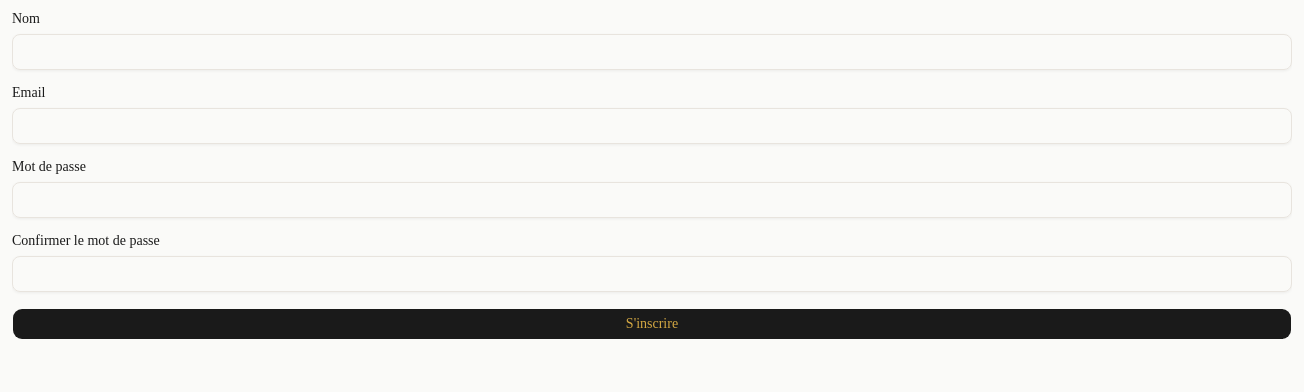
Test: <SignupForm> › displays the error message returned by the action
Type "Alice Martin" into the field labelled "Nom" at (652,52), box [12, 34, 1292, 70]
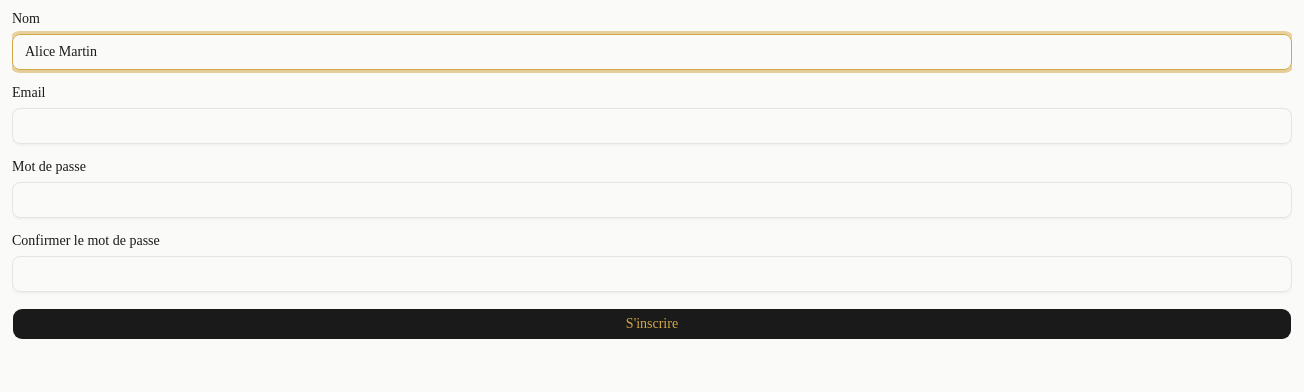
Type "taken@example.com" into the field labelled "Email" at (652,126), box [12, 108, 1292, 144]
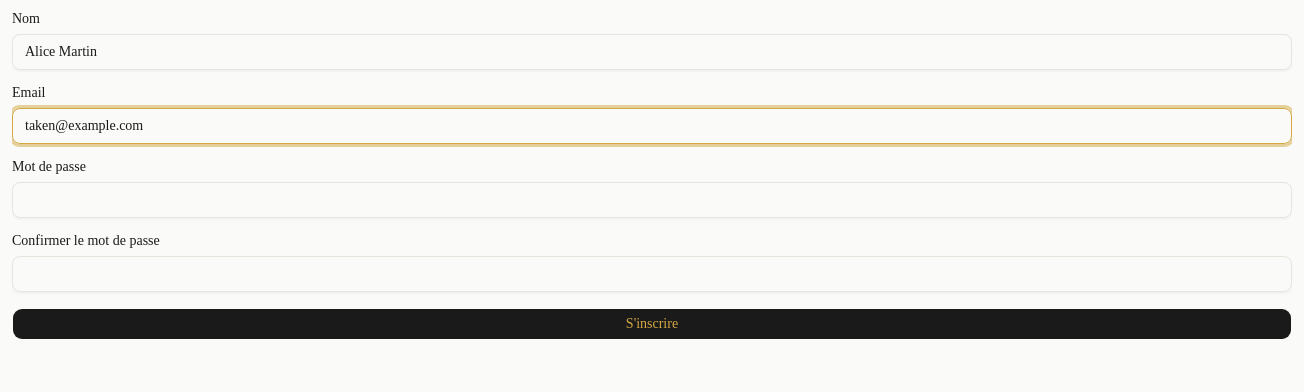
Type "secret12" into the password field labelled "Mot de passe" at (652,200), box [12, 182, 1292, 218]
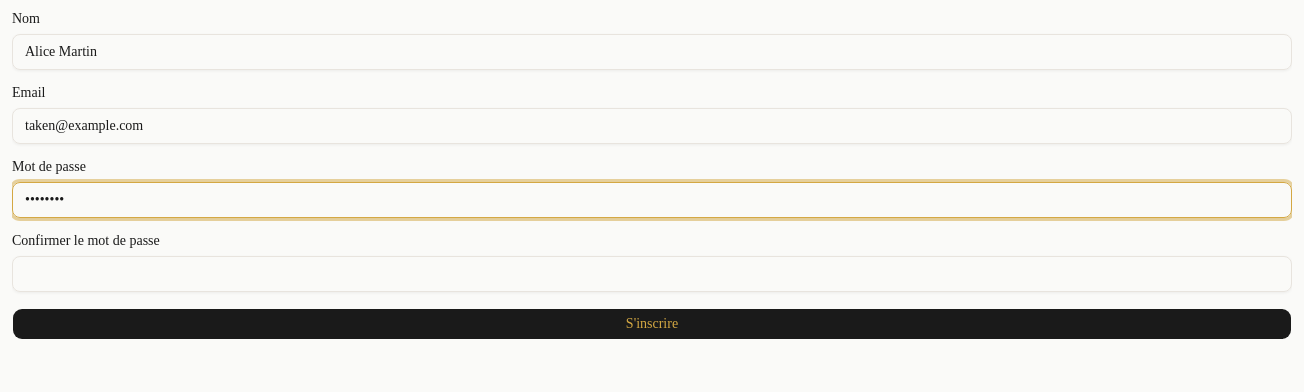
Type "secret12" into the password field labelled "Confirmer le mot de passe" at (652,274), box [12, 256, 1292, 292]
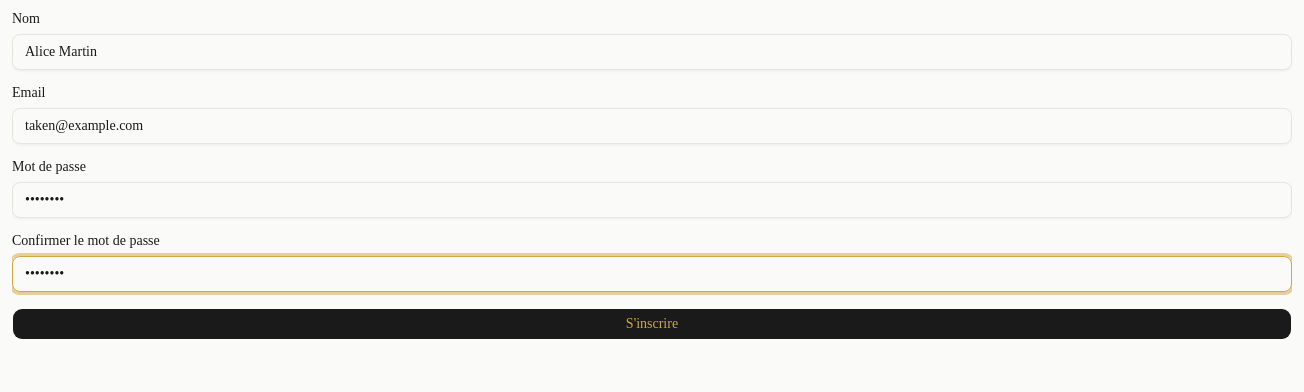
Click the button "S'inscrire" at (652,324), box [12, 308, 1292, 340]
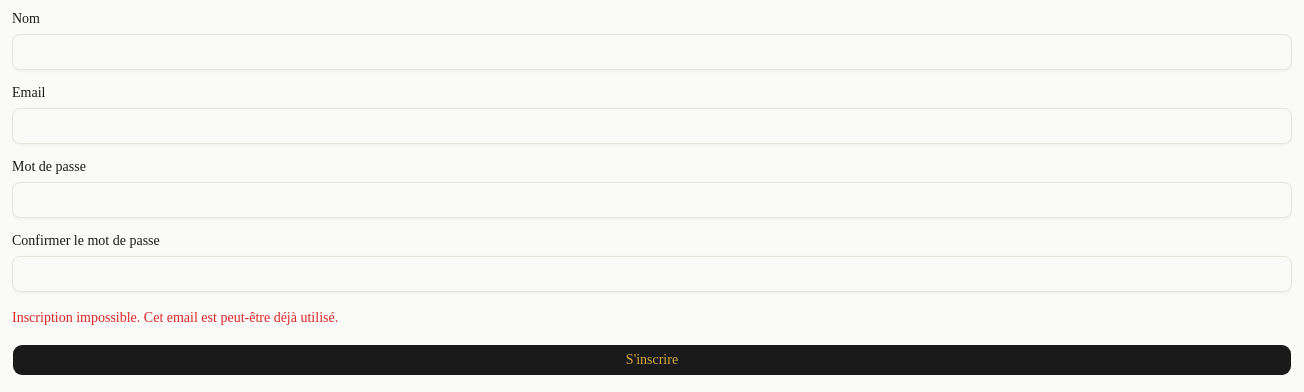
Result: the message reads "Inscription impossible. Cet email est peut-être déjà utilisé." at [12, 310, 338, 325]
